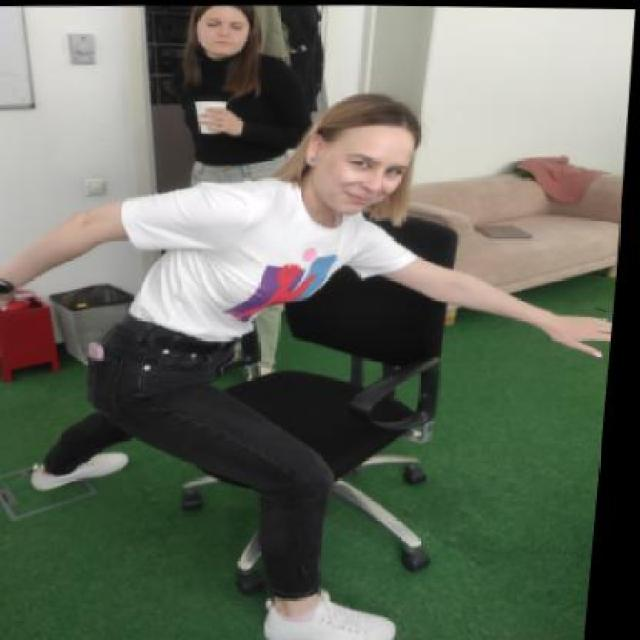chair: (163, 199, 494, 604)
